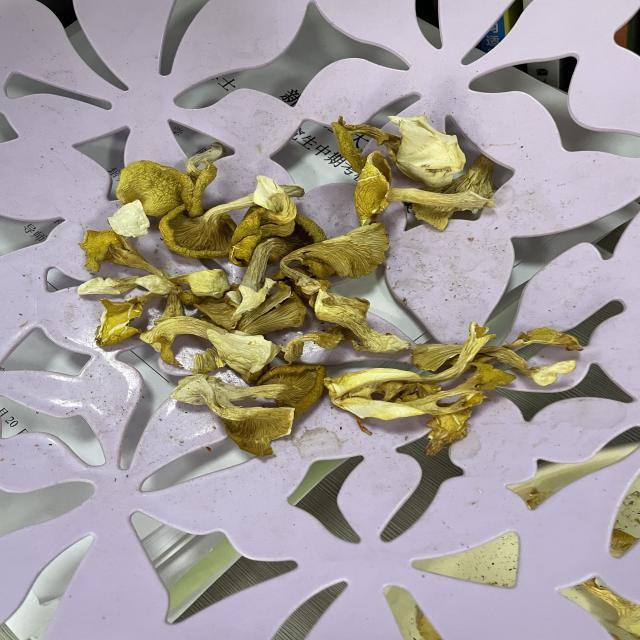Pleurotus citrinopileatus: (199, 43, 607, 427), (154, 104, 310, 231)
